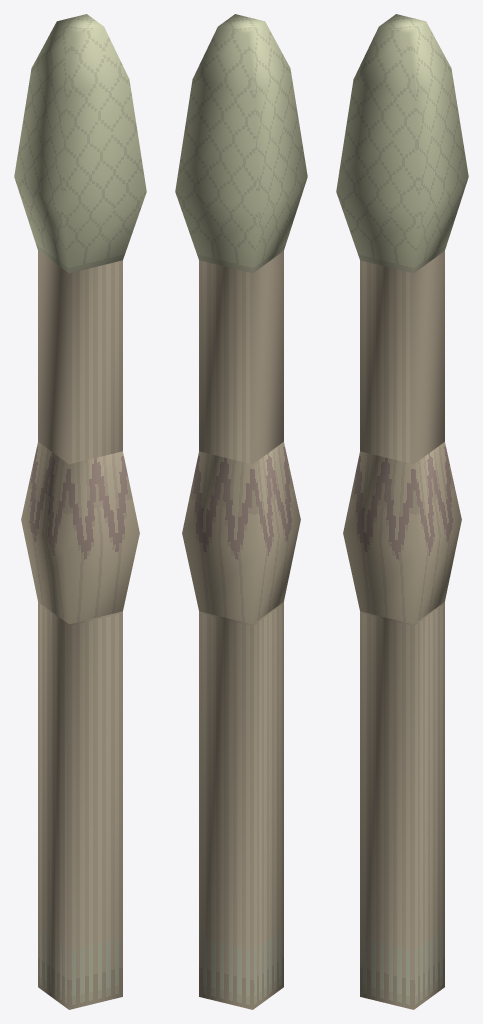
File: 0055_Horsetail.glb
3 views of the same model, side by side, from view 1: azimuth 30°, elevation 25°; view 2: azimuth 150°, elevation 25°; view 3: azimuth 330°, elevation 25° (orthographic).
Parts seen in each view (by area): view 1: part_0; view 2: part_0; view 3: part_0.
Boxes of the visible parts, x1,y1,x2,y2 form: part_0: (14,14,146,1009); part_0: (175,14,307,1009); part_0: (336,14,468,1009).
Bounding box in the file's own units: 0.0102 × 0.1117 × 0.0102.
Materials: 1 (1 with a texture image).
